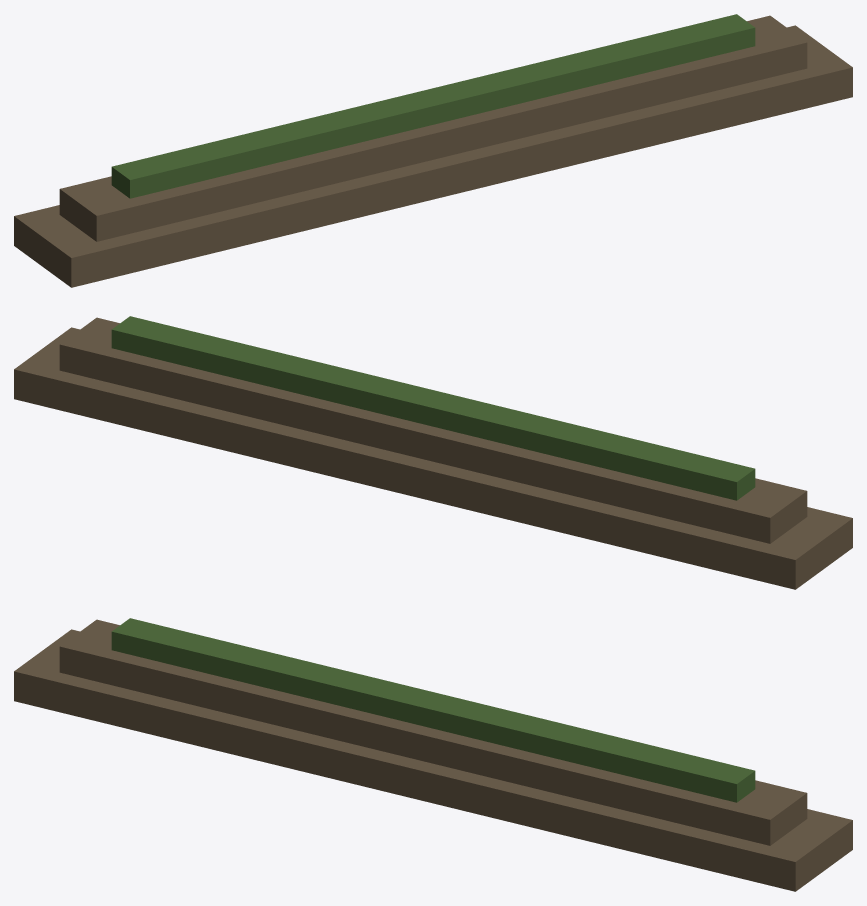
File: ridge.glb
3 views of the same model, one above another, from view 1: azimuth 30°, elevation 25°; view 2: azimuth 150°, elevation 25°; view 3: azimuth 330°, elevation 25° (orthographic).
Visible parts, largest first — view 1: ridge; view 2: ridge; view 3: ridge.
Part boxes in pixels (left/top/right/bottom): ridge: left=14, top=14, right=852, bottom=287; ridge: left=14, top=316, right=852, bottom=589; ridge: left=14, top=618, right=852, bottom=891.
Size of the model in its own units: 110 by 10 by 14.
